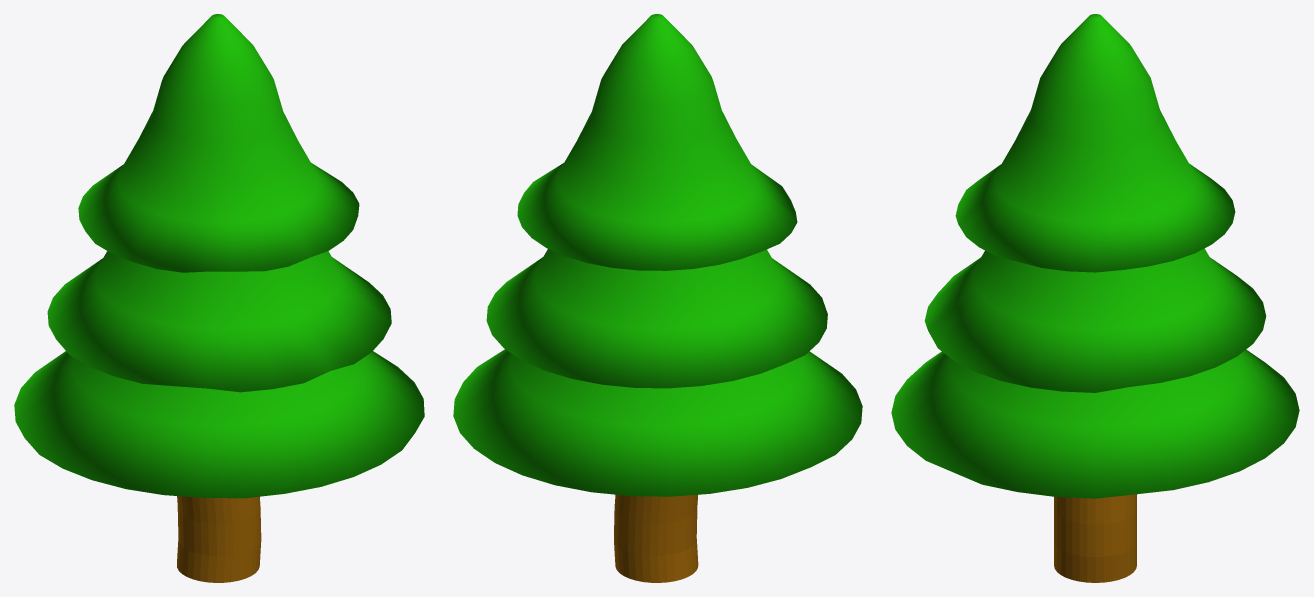
Rendered from singletree.glb.
The picture shows the model from 3 angles, left to right: view 1: azimuth 30°, elevation 25°; view 2: azimuth 150°, elevation 25°; view 3: azimuth 270°, elevation 25°; orthographic projection.
Parts seen in each view (by area): view 1: Cylinder.002, Cylinder, Cylinder.001, Cylinder.003; view 2: Cylinder, Cylinder.002, Cylinder.001, Cylinder.003; view 3: Cylinder.002, Cylinder, Cylinder.001, Cylinder.003.
Boxes of the visible parts, <box> form: Cylinder.002: <box>78,14,359,272</box>; Cylinder: <box>14,351,424,498</box>; Cylinder.001: <box>47,251,391,392</box>; Cylinder.003: <box>177,496,261,582</box>; Cylinder: <box>453,349,862,496</box>; Cylinder.002: <box>517,14,797,270</box>; Cylinder.001: <box>486,249,827,388</box>; Cylinder.003: <box>614,494,698,582</box>; Cylinder.002: <box>955,14,1235,272</box>; Cylinder: <box>891,349,1299,498</box>; Cylinder.001: <box>924,248,1266,392</box>; Cylinder.003: <box>1054,494,1136,582</box>.
Bounding box in the file's own units: 2.64 × 3.86 × 2.6.
